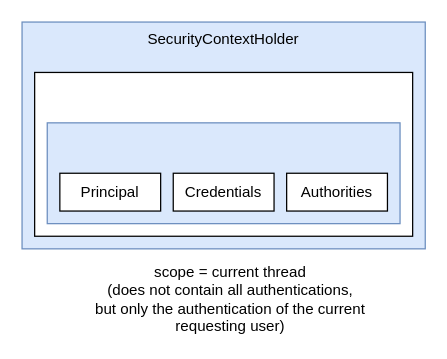
The diagram is 447 pixels wide and 359 high, and some of its shapes have lost their labels. The box of each missing label's shape, as (x1, y1, x2, y2) in pixels:
Authentication: (46, 122, 400, 224)
SecurityContext: (33, 71, 413, 236)
